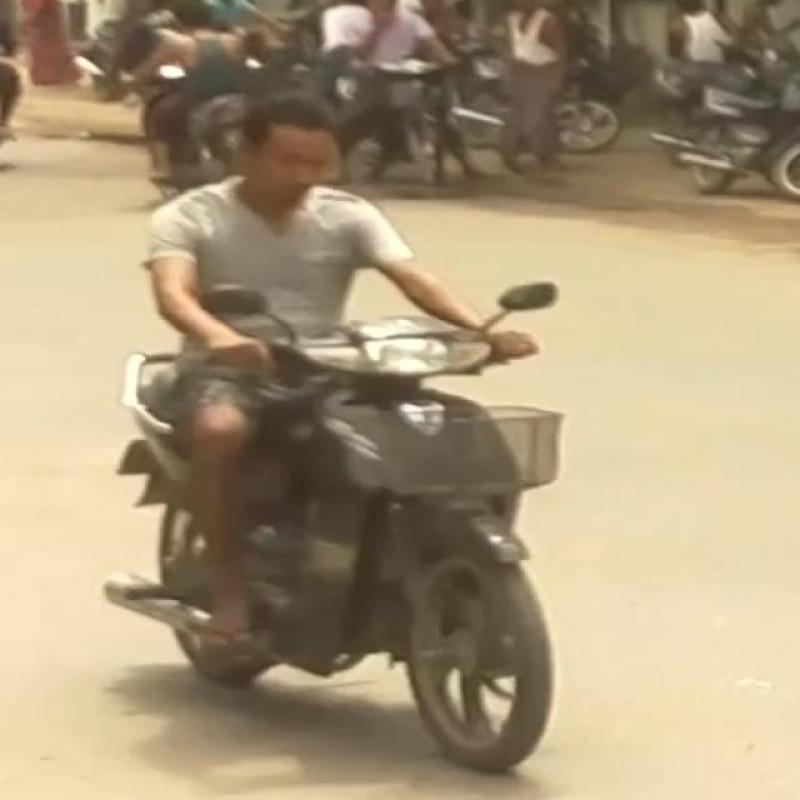nohelmet: (221, 80, 387, 220)
